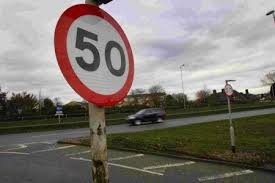Speed_limit_50km: (54, 4, 136, 106)
